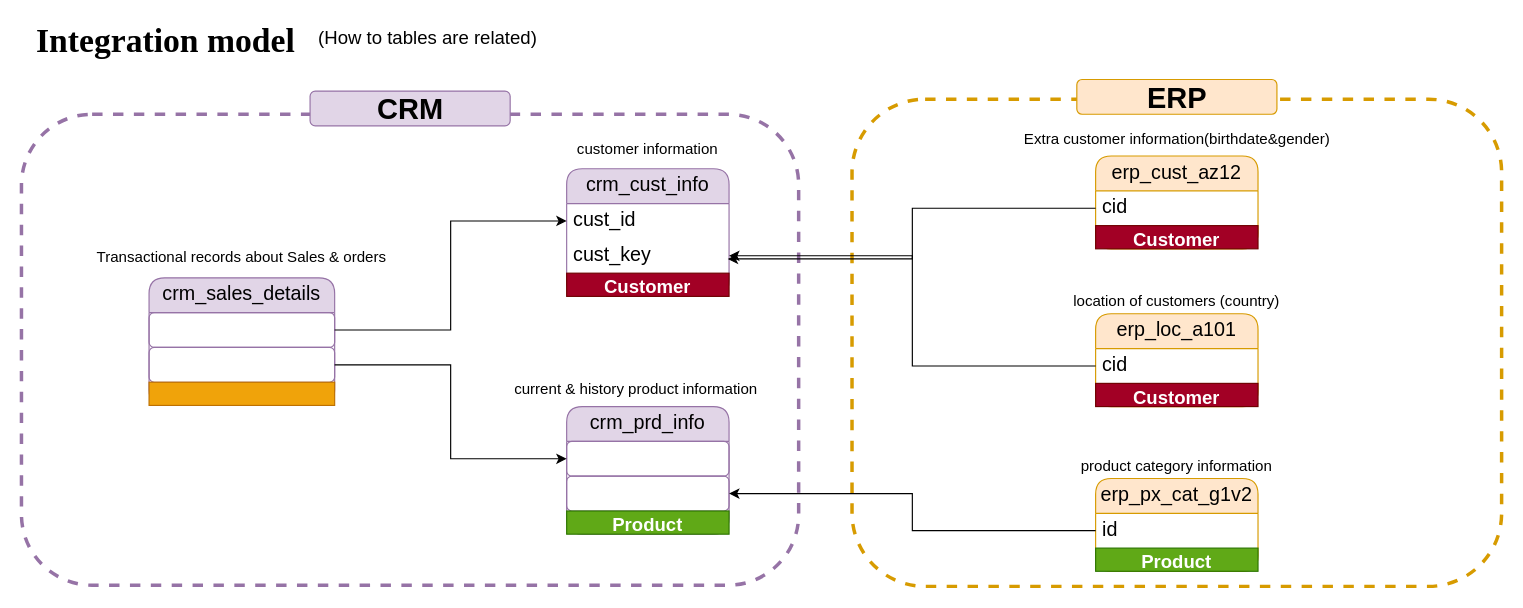
The diagram is 1523 pixels wide and 608 high, and some of its shapes have lost their labels. The shapes that lost their labels are listed below. From the top down, each one's centre as x and y in pixels, then its label:
At [241,329]: "sis_cust_id".
At [241,364]: "sis_prd_key".
At [241,393]: "Sales".
At [647,458]: "prd_key".
At [647,493]: "cat_id".
